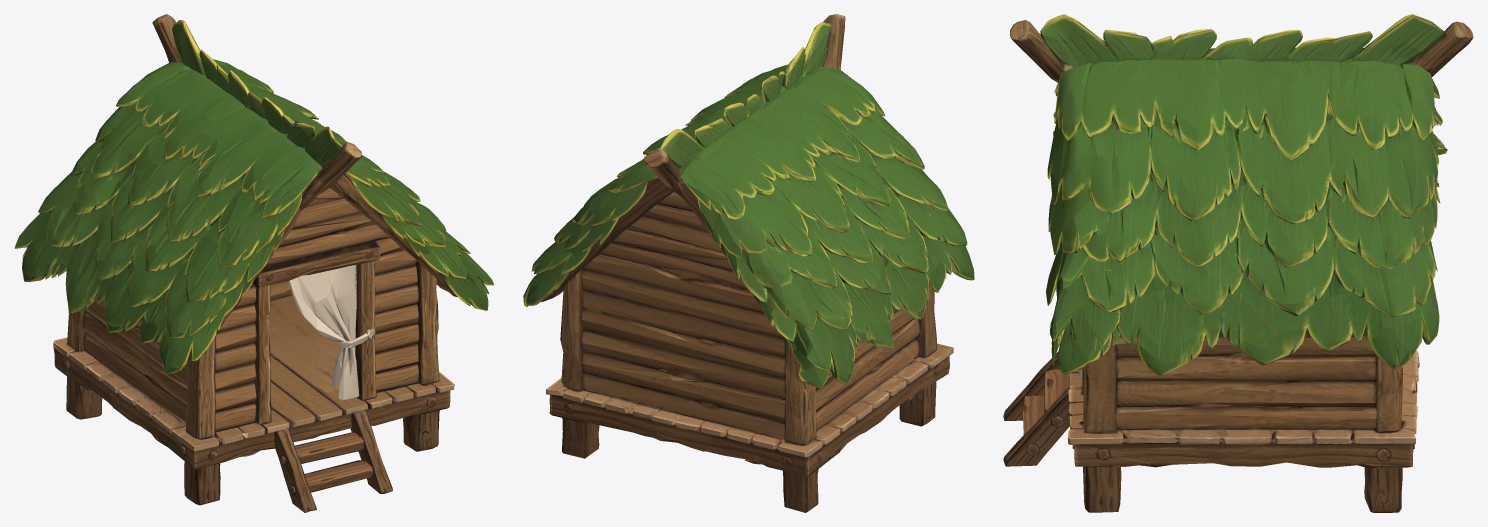
The model's file is CampHut.fbx.
3 views of the same model, side by side, from view 1: azimuth 30°, elevation 25°; view 2: azimuth 150°, elevation 25°; view 3: azimuth 270°, elevation 25° (orthographic). The views are drawn at different scales.
Parts seen in each view (by area): view 1: CampHut; view 2: CampHut; view 3: CampHut.
Part boxes in pixels (bbox=[...]): CampHut: bbox=[14, 14, 494, 512]; CampHut: bbox=[523, 14, 974, 512]; CampHut: bbox=[1003, 14, 1473, 512].
Size of the model in its own units: 2.9 by 3 by 2.98.
Materials: 1 (1 with a texture image).
